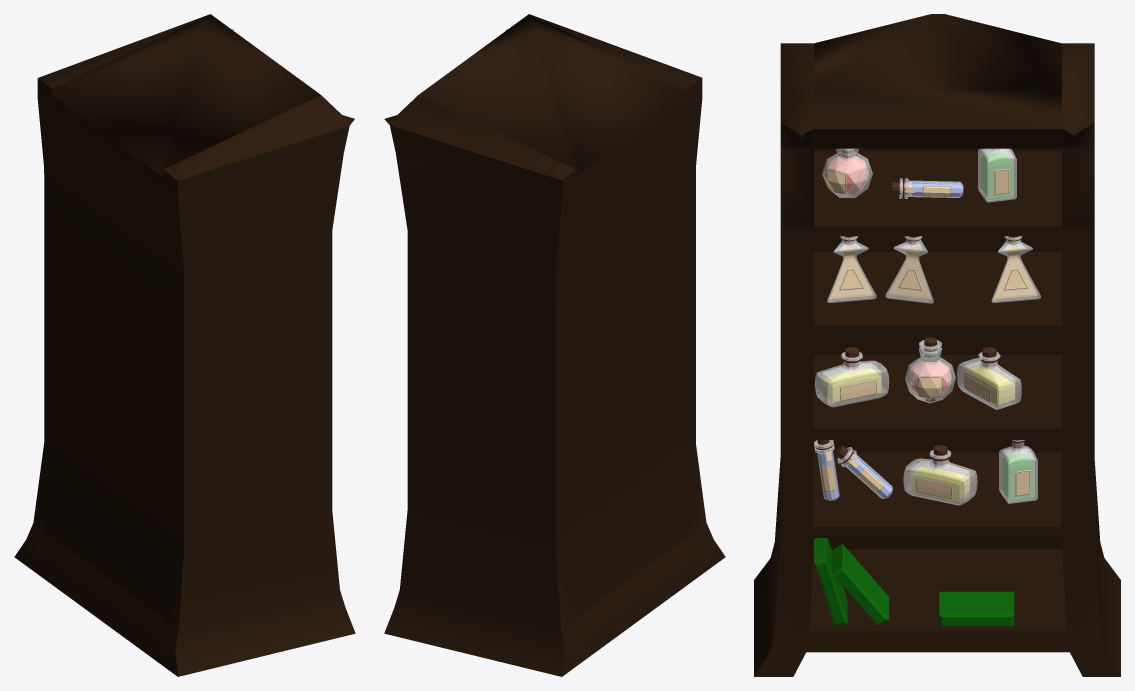
Rendered from шкаф 1.fbx.
3 views of the same model, side by side, from view 1: azimuth 30°, elevation 25°; view 2: azimuth 150°, elevation 25°; view 3: azimuth 270°, elevation 25° (orthographic). The views are drawn at different scales.
Parts seen in each view (by area): view 1: Cube; view 2: Cube; view 3: Cube, жидкость.003, жидкость.001, Куб.002, жидкость.002, нитка, Куб.001, жижа.002, жижа.005, нитка.001, жижа.001, жижа.004 (+5 smaller).
Part boxes in pixels (left/top/right/bottom): Cube: left=14, top=14, right=355, bottom=676; Cube: left=384, top=14, right=725, bottom=676; Cube: left=754, top=14, right=1120, bottom=676; жидкость.003: left=903, top=445, right=977, bottom=505; жидкость.001: left=815, top=347, right=889, bottom=407; Куб.002: left=939, top=591, right=1014, bottom=626; жидкость.002: left=957, top=347, right=1021, bottom=409; нитка: left=905, top=337, right=955, bottom=403; Куб.001: left=832, top=543, right=888, bottom=626; жижа.002: left=999, top=440, right=1037, bottom=503; жижа.005: left=978, top=148, right=1016, bottom=202; нитка.001: left=822, top=148, right=872, bottom=197; жижа.001: left=827, top=236, right=876, bottom=302; жижа.004: left=991, top=236, right=1040, bottom=302.
Size of the model in its own units: 269 by 721 by 384.
